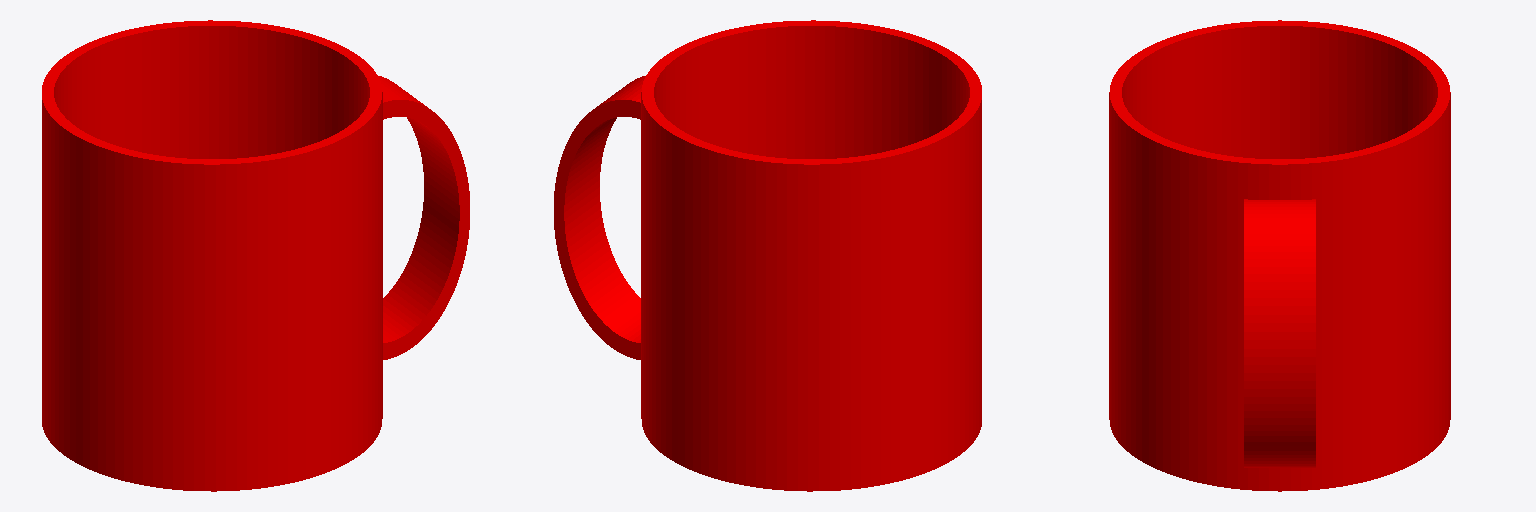
robot.urdf — mug.urdf:
<?xml version="1.0" ?>
<robot name="mug.urdf">
  <link name="baseLink">
    <inertial>
      <origin rpy="0 0 0" xyz="0 0 0"/>
       <mass value=".1"/>
       <inertia ixx="1" ixy="0" ixz="0" iyy="1" iyz="0" izz="1"/>
    </inertial>
    <visual>
      <origin rpy="0 0 0" xyz="0 0 0"/>
      <geometry>
        <mesh filename="6.stl" scale="1 1 1" />
      </geometry>
      <material name="red">
        <color rgba="1 0 0 1"/>
      </material>
    </visual>
    <collision>
      <origin rpy="0 0 0" xyz="0 0 0"/>
      <geometry>
        <mesh filename="6_convex.obj" scale="1 1 1" />
      </geometry>
    </collision>
  </link>
</robot>

--- Render facts (derived) ---
The picture shows the robot from 3 angles, left to right: view 1: azimuth 30°, elevation 25°; view 2: azimuth 150°, elevation 25°; view 3: azimuth 270°, elevation 25°; orthographic projection.
Robot: mug.urdf — 1 links, 0 joints (none); root link baseLink; default pose: all joints at 0.
Visible links, largest first — view 1: baseLink; view 2: baseLink; view 3: baseLink.
Link boxes in pixels (x1=…): baseLink: x1=42, y1=20, x2=469, y2=491; baseLink: x1=554, y1=20, x2=981, y2=491; baseLink: x1=1109, y1=20, x2=1450, y2=491.
Bounding box of the posed robot: 0.1805 × 0.1373 × 0.1452 m (x, y, z).
Meshes: 1 distinct files referenced, 1 mesh visuals loaded (1 binary STL).